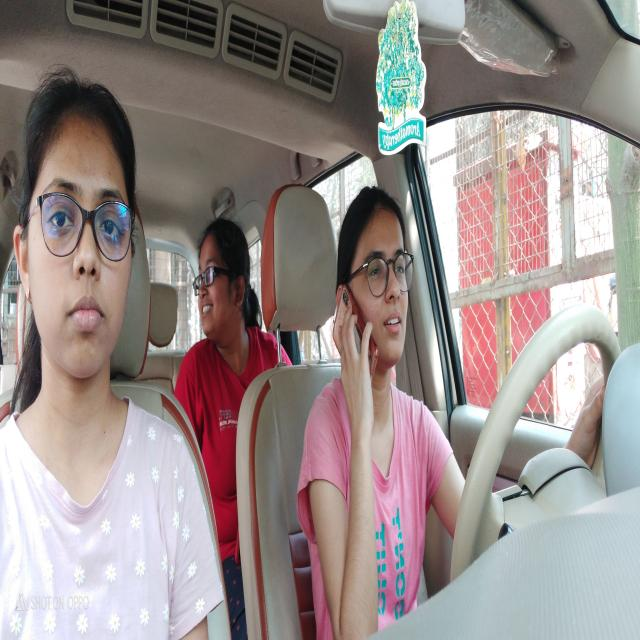mobile: (335, 277, 379, 395)
person: (10, 43, 141, 396), (334, 162, 419, 409), (189, 196, 264, 355)
